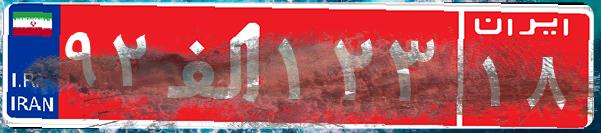1: (273, 28, 330, 110), (475, 38, 525, 113)
2: (330, 28, 385, 110), (110, 28, 158, 105)
3: (385, 28, 445, 110)
8: (525, 38, 570, 115)
9: (57, 26, 110, 107)
الف: (158, 15, 273, 115)
